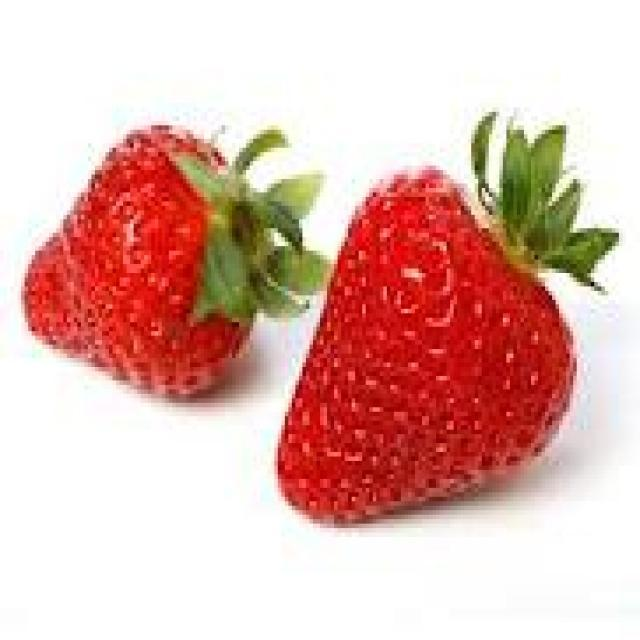Strawberry: (3, 80, 633, 532)
